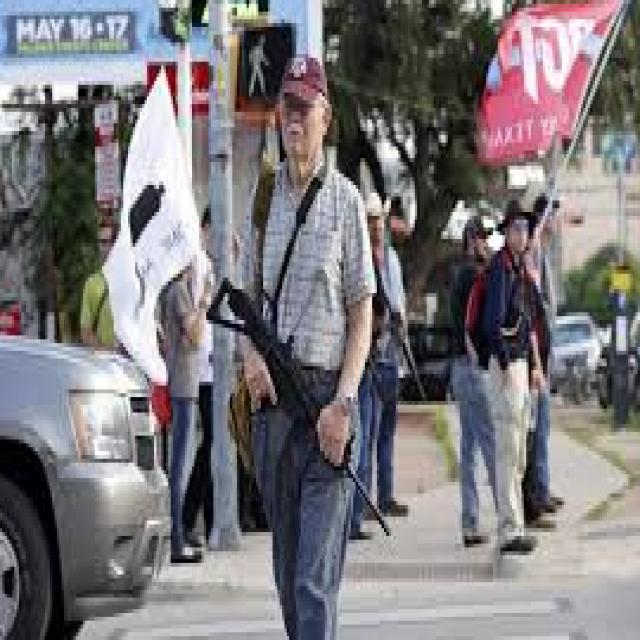gun: (203, 260, 407, 556), (361, 233, 437, 422)
